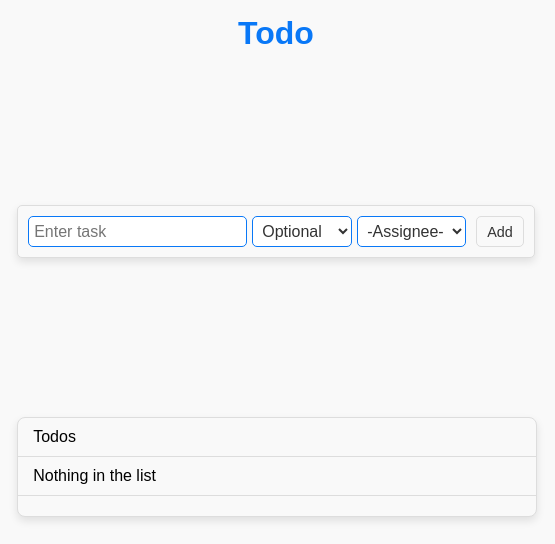
Test: Todo Form with Clear All Button › should allow adding tasks and clear all tasks
Type "Task 1" into the field with placeholder "Enter task" at (138, 233), box [28,217,247,248]
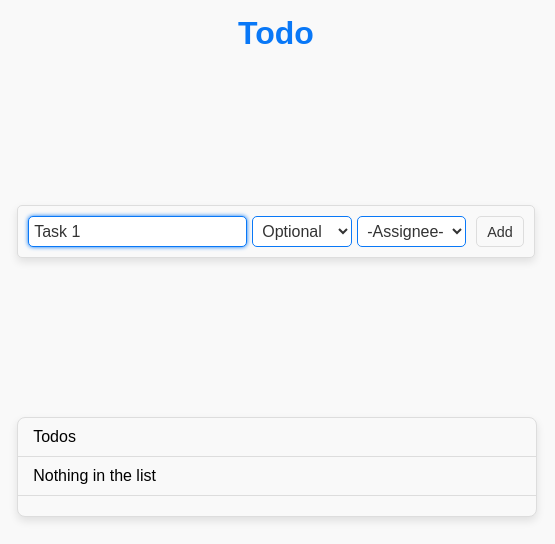
Select "Critical" in the 1st dropdown at (302, 233), box [252,217,352,248]
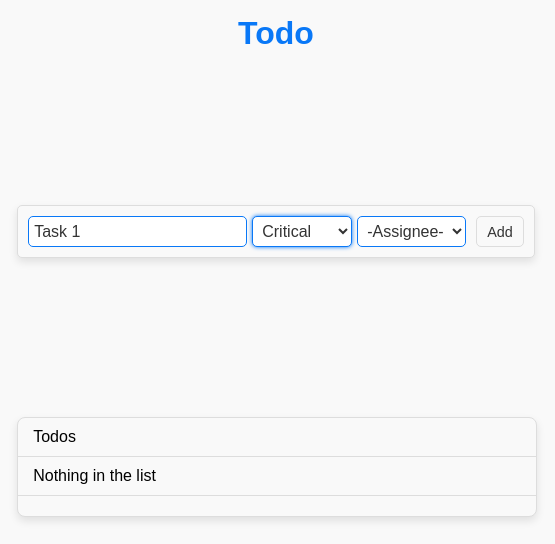
Select "Jack" in the 2nd dropdown at (412, 233), box [357,217,466,248]
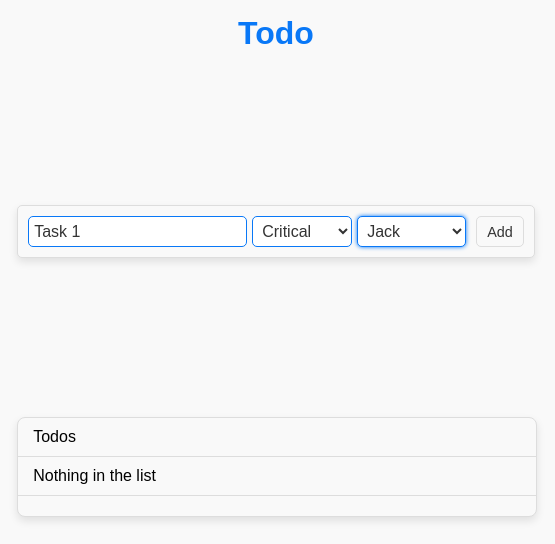
Click the submit button at (500, 233), box [476,217,524,248]
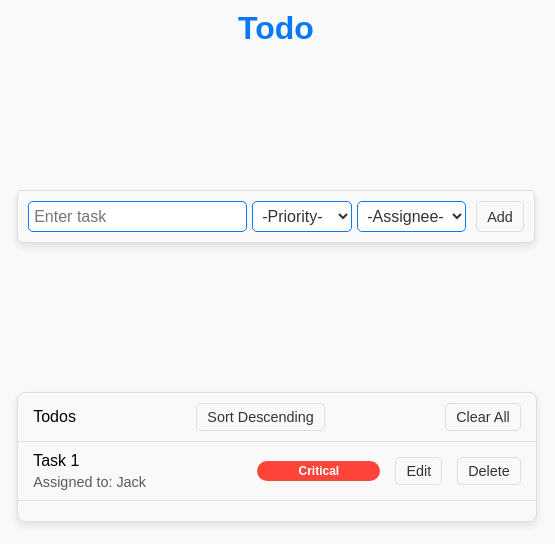
Result: the text "Task 1" is shown at [33,452,80,469]
Click the button "Clear All" at (483, 417), box [445,403,521,431]
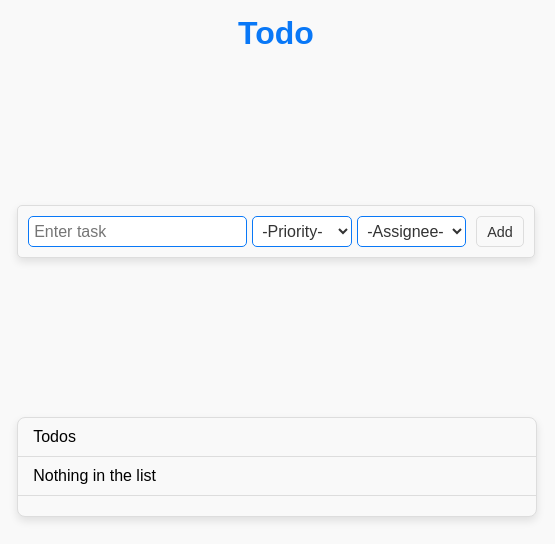
Result: the text "Task 1" is gone
Result: the list item "Nothing in the list" is shown at [18,457,536,496]
